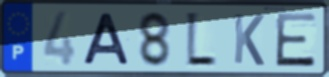4: (41, 10, 78, 68)
8: (137, 10, 173, 69)
A: (81, 11, 133, 67)
E: (273, 11, 318, 69)
K: (232, 12, 267, 68)
L: (184, 9, 219, 70)
